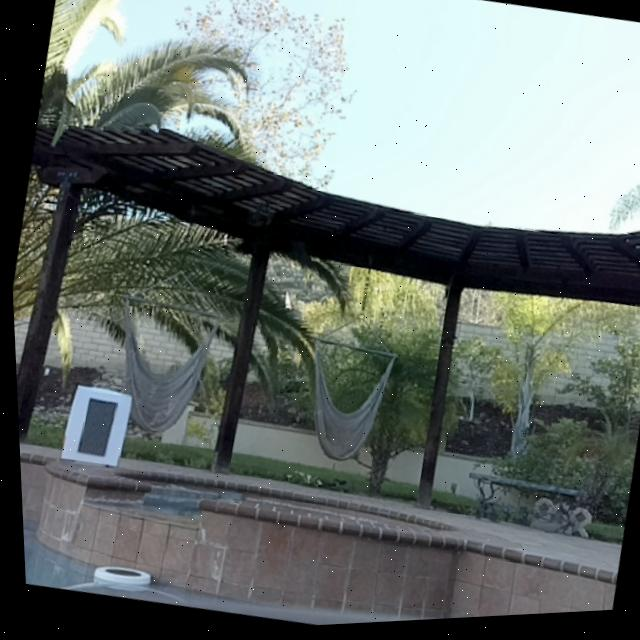led: (71, 395, 116, 460)
